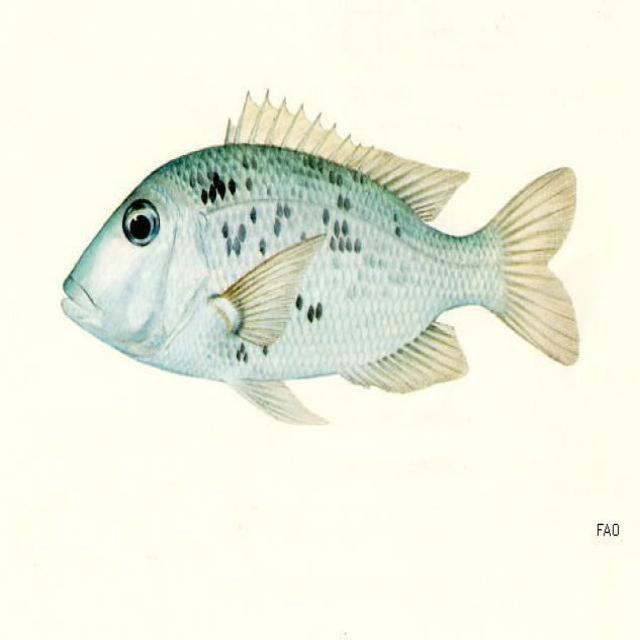ikan: (29, 62, 602, 436)
